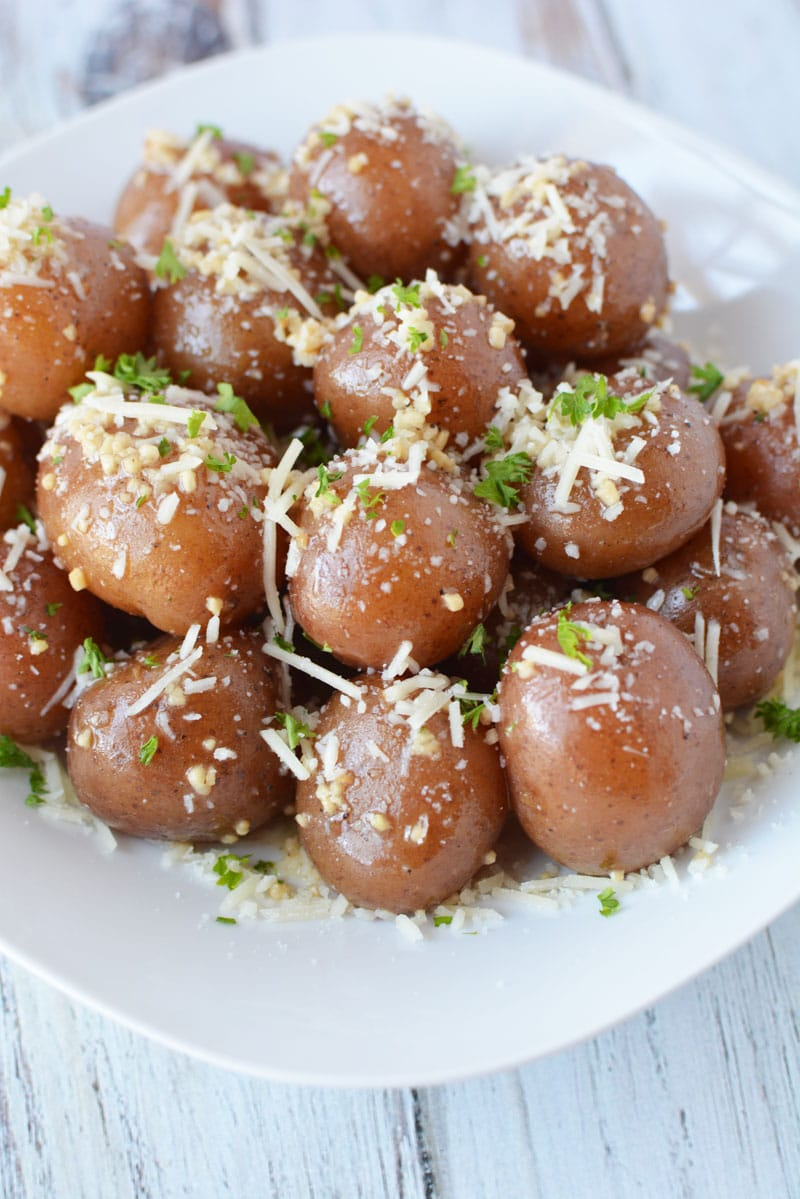boiled potatoes: (1, 149, 800, 848)
